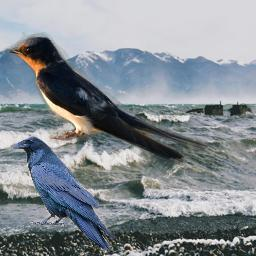Crow: (11, 135, 117, 250)
Swallow: (3, 30, 212, 164)
